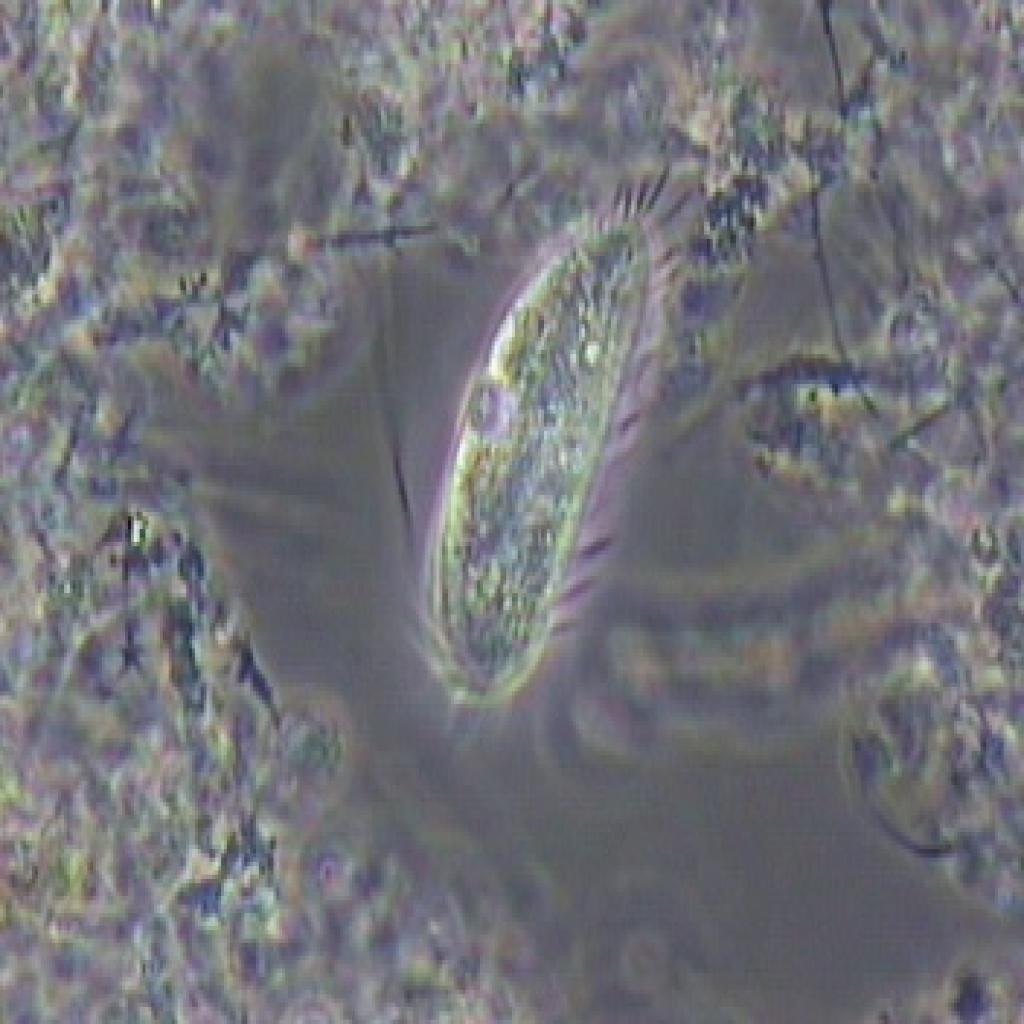Stylonychia: (348, 154, 706, 738)
